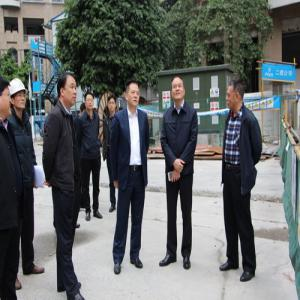none: (225, 79, 246, 117), (58, 73, 79, 107), (2, 78, 14, 121), (172, 76, 187, 105), (126, 80, 141, 108), (84, 92, 96, 113), (108, 96, 118, 115)
white: (9, 76, 28, 113)
